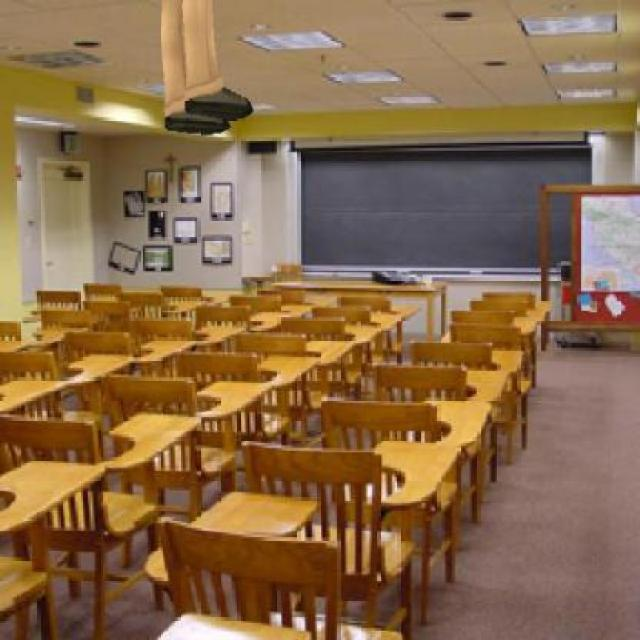Person: (152, 0, 254, 142)
